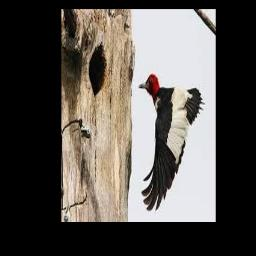Woodpecker: (139, 74, 205, 211)
